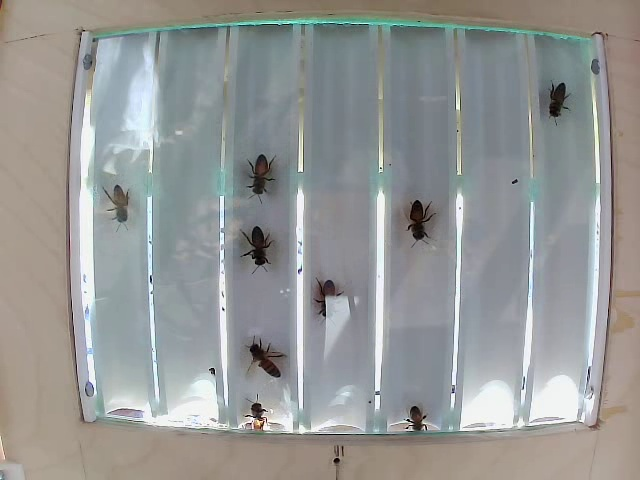bee: (397, 190, 448, 243), (234, 223, 274, 269), (237, 150, 279, 192), (312, 282, 349, 328), (91, 181, 136, 215), (542, 79, 576, 122), (245, 345, 290, 375)
